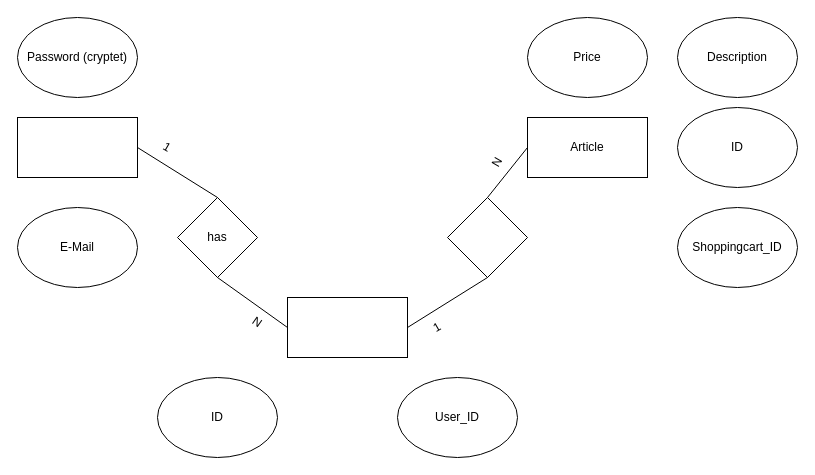
Image size: 815x475. Some labels were removed from this diagram. Here are the shapes that lost their labels. From the top down, the centre of each, then its label:
[77,147]: User
[487,237]: in
[347,327]: Shoppingcart
